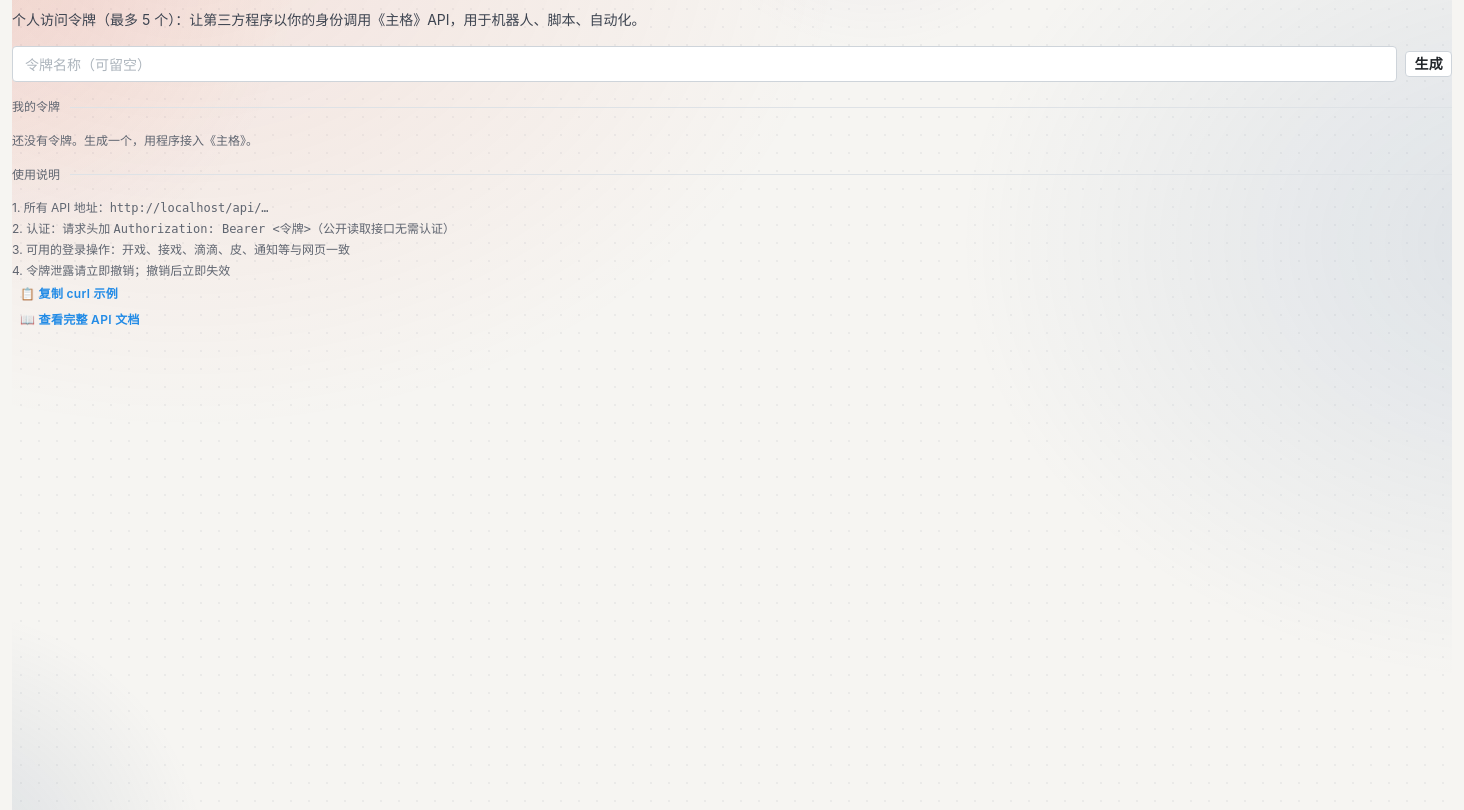
Test: ApiTokensContent › 点"显示"→ 明文可见；点"隐藏"→ 恢复掩码
Click the button "生成": (1429, 64) left=1405, top=51, right=1452, bottom=77
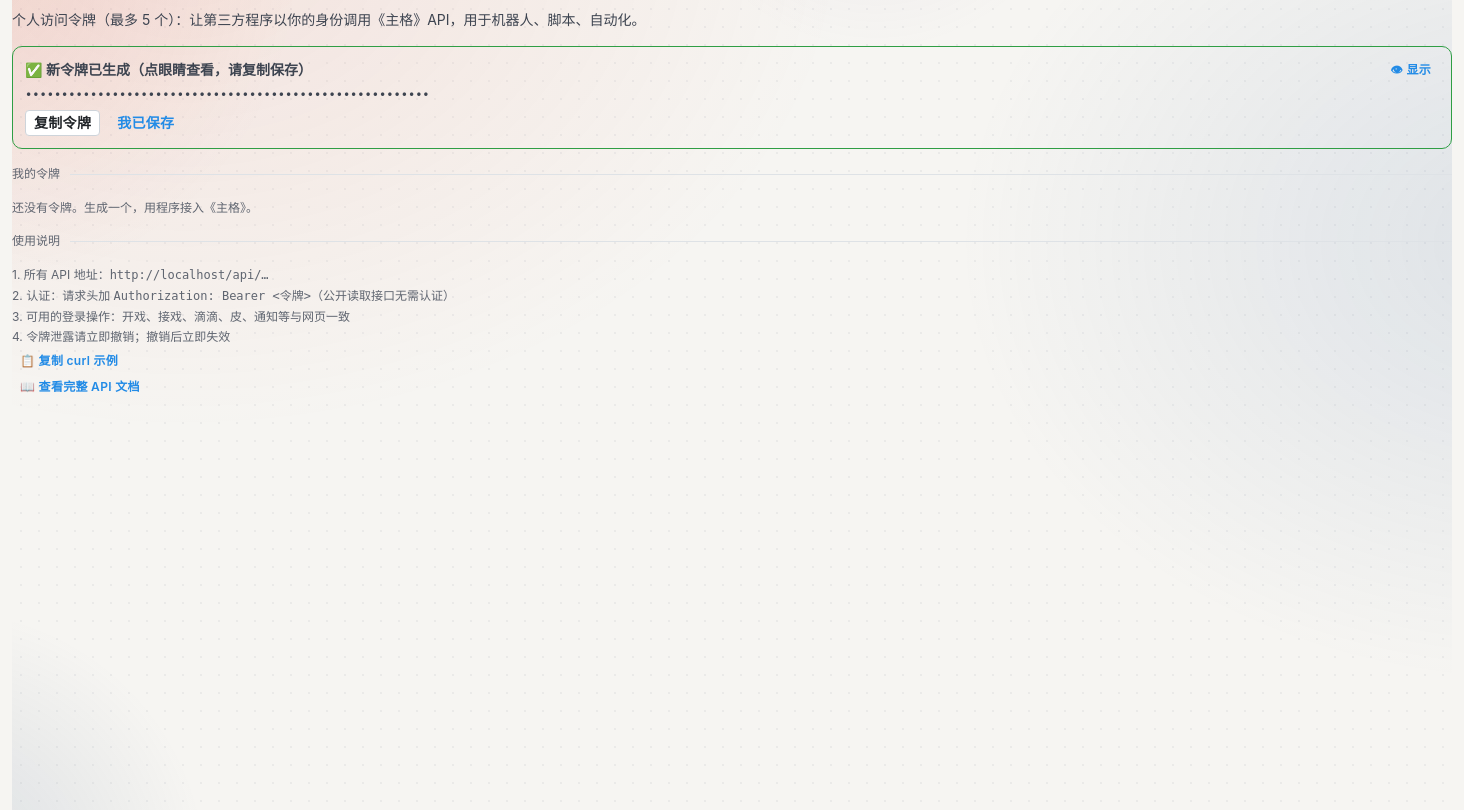
Now the button "👁 显示" is shown
Click the button "👁 显示": (1411, 70) left=1383, top=59, right=1439, bottom=81
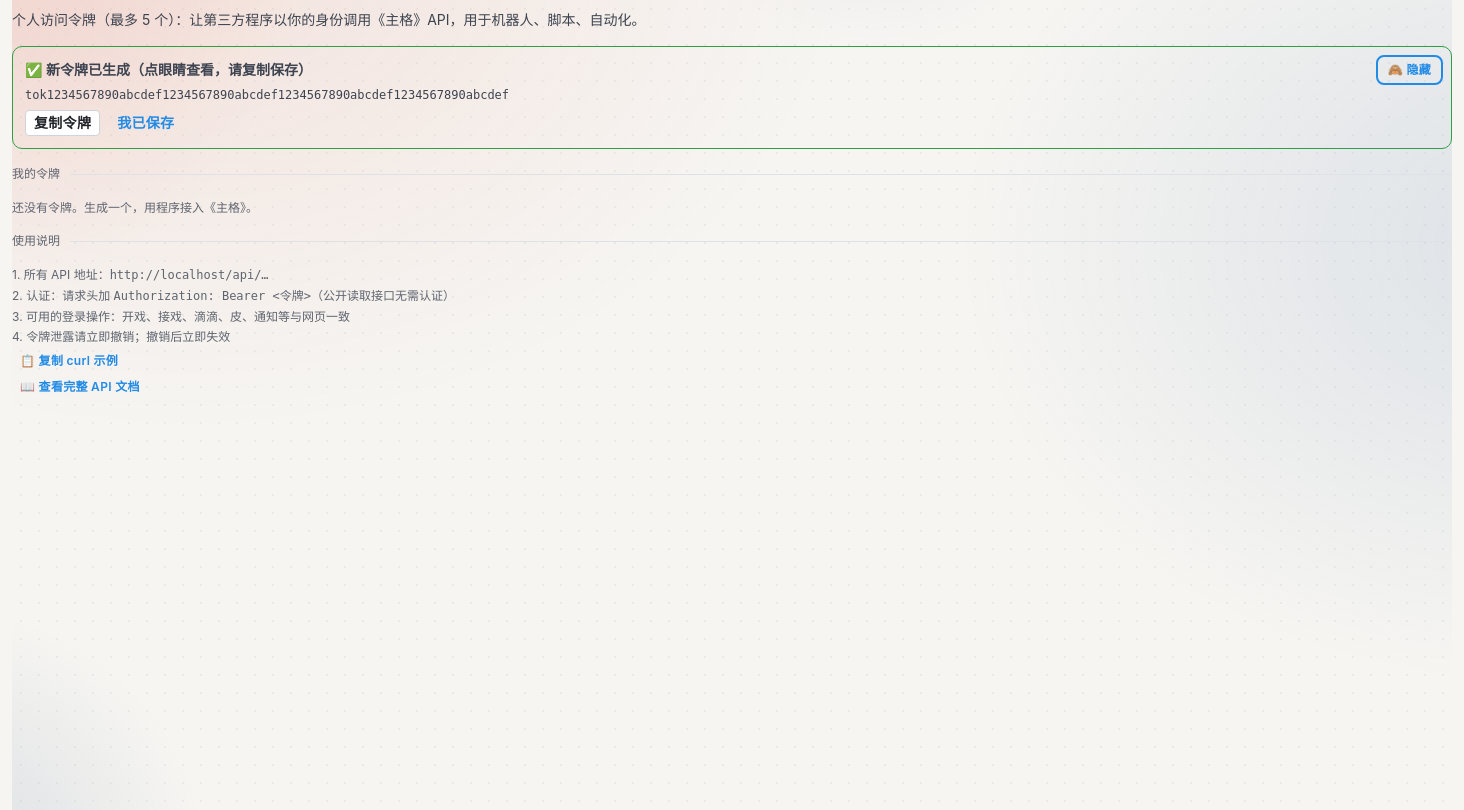
Now the text "tok1234567890abcdef" is shown, box left=25, top=88, right=509, bottom=102
Click the button "🙈 隐藏": (1409, 70) left=1380, top=59, right=1439, bottom=81
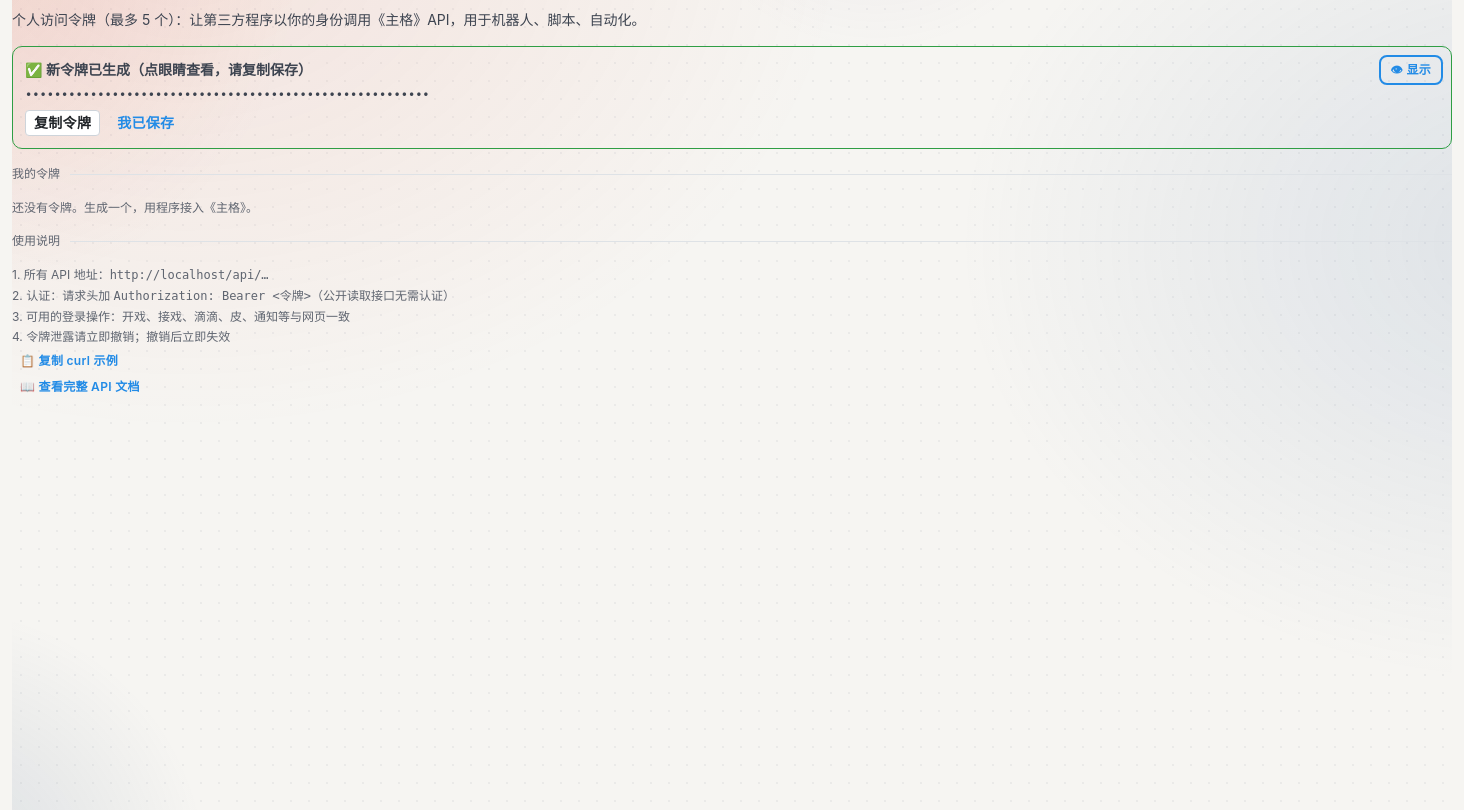
Now the text "••••••••••••••••••••••••••••••••••••••••••••••••••••••••" is shown, box left=25, top=88, right=430, bottom=102
